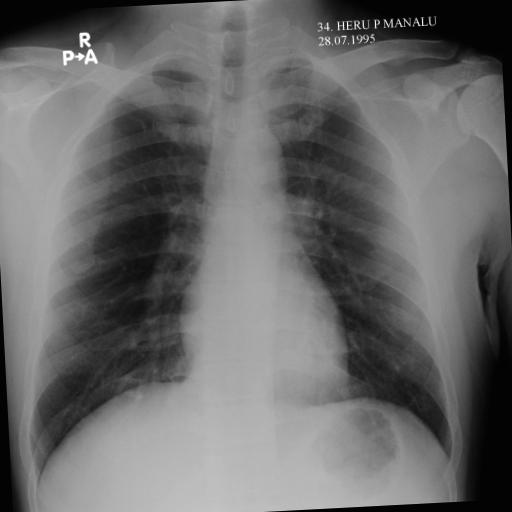normal: (4, 12, 462, 496)
